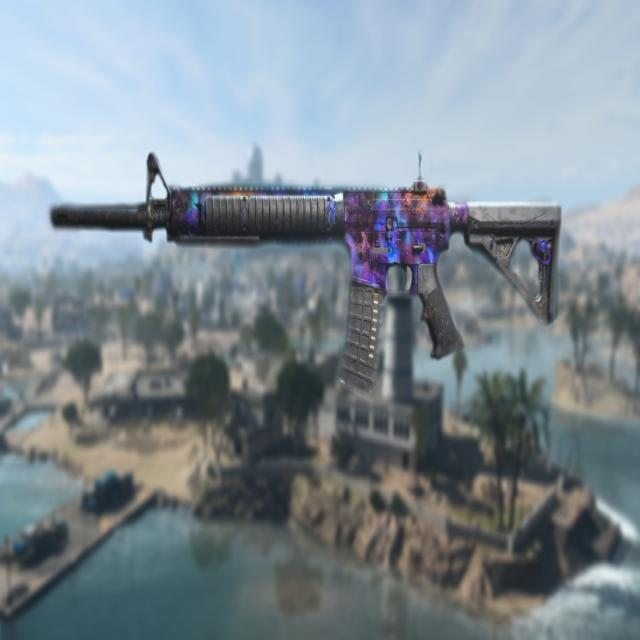Rifle: (50, 153, 563, 393)
